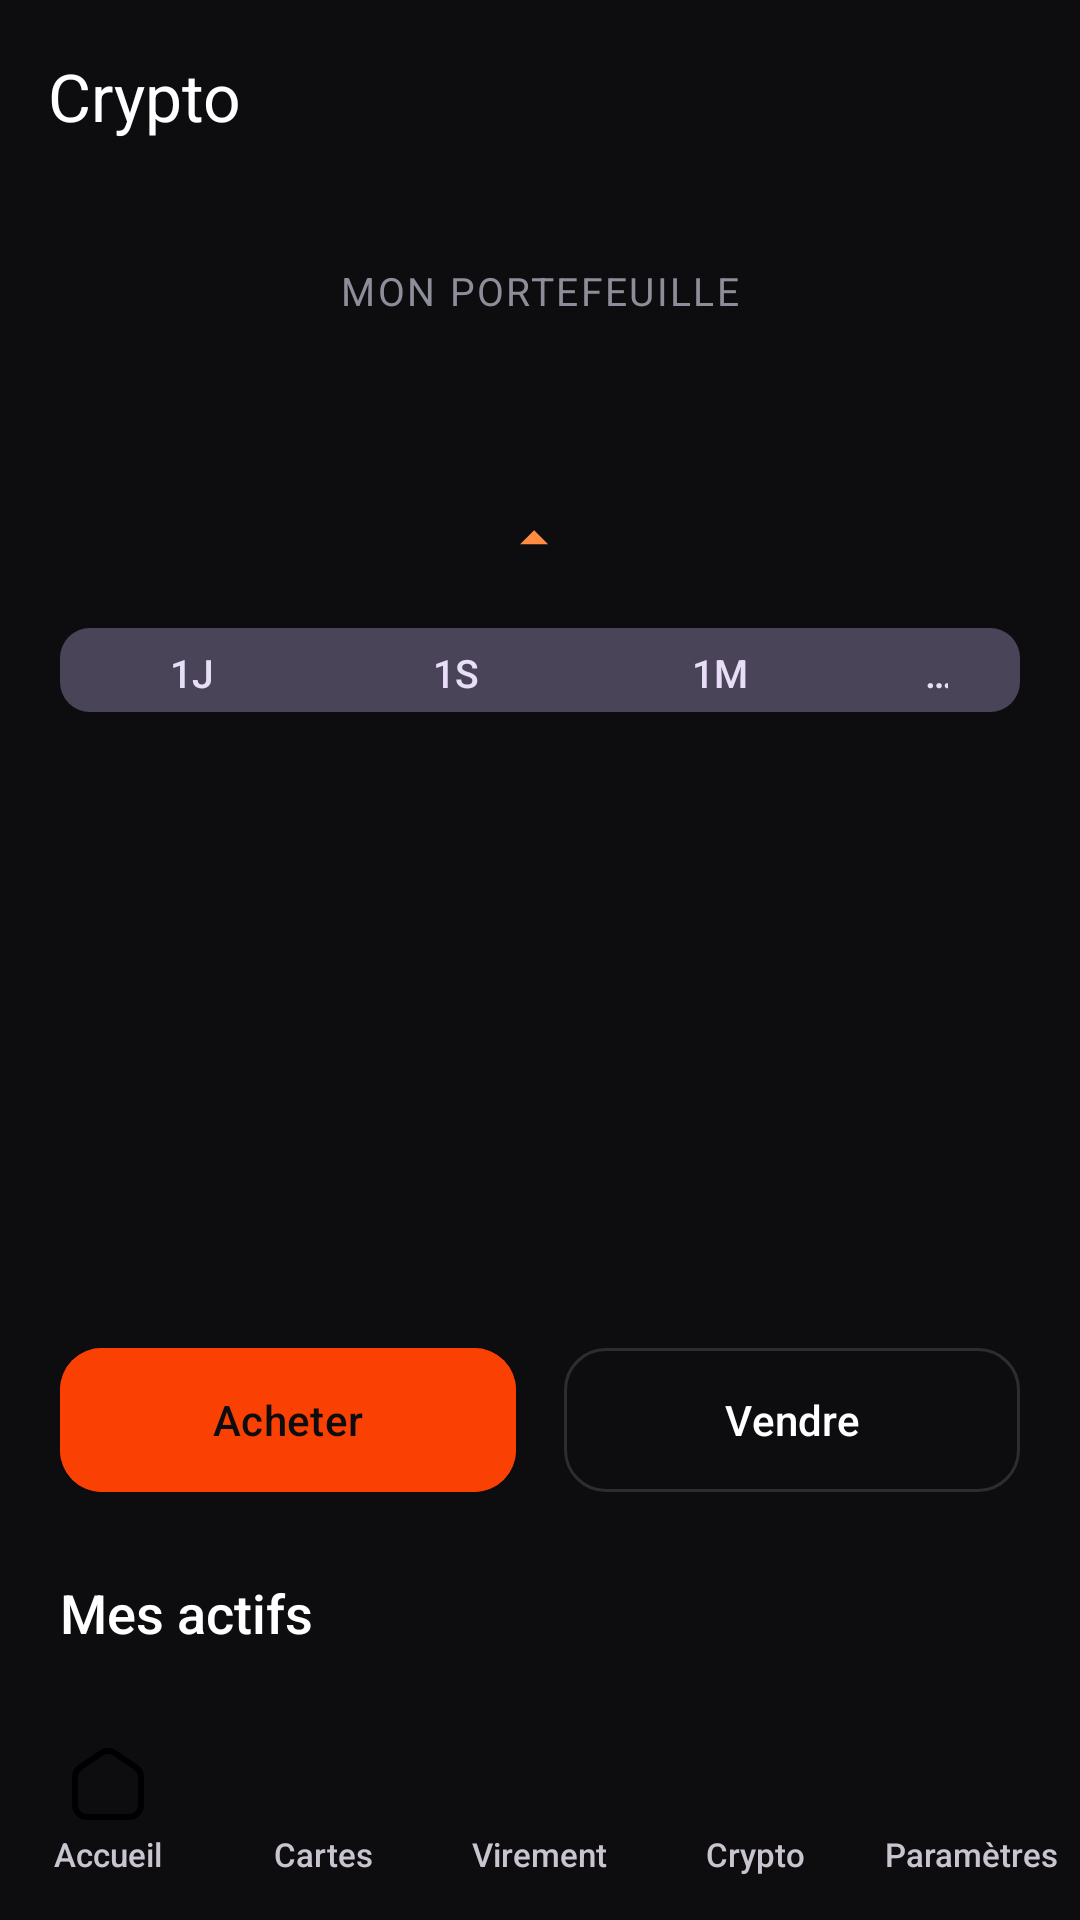

Icons on this 1080*1920 Android screen, each with its box as [x1, y1, x2, y2]:
arrow up: [520, 530, 548, 545]
